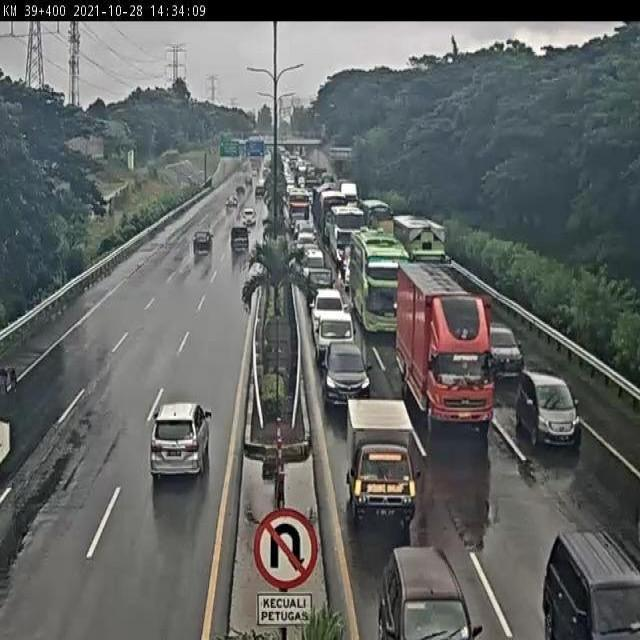car: (539, 526, 637, 640), (373, 548, 481, 640), (341, 396, 414, 517), (513, 363, 577, 443), (149, 404, 210, 477), (321, 340, 372, 404), (482, 318, 520, 382), (314, 314, 357, 366), (309, 292, 348, 331), (303, 269, 336, 304), (228, 225, 250, 255), (194, 231, 215, 256), (303, 251, 328, 271), (342, 252, 357, 285), (297, 234, 317, 258), (293, 219, 316, 239)
truck: (391, 263, 487, 421), (350, 229, 411, 335), (392, 216, 453, 292), (330, 208, 366, 265), (319, 195, 345, 239), (286, 190, 312, 230)
